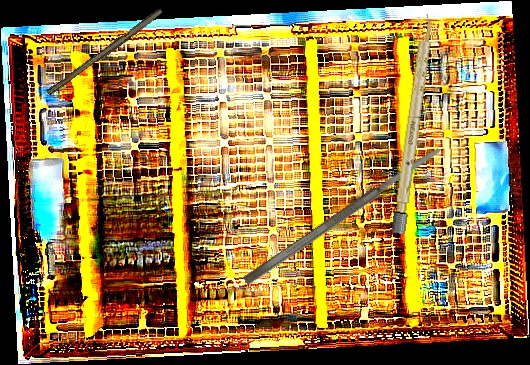Scalpel Handle: (45, 5, 166, 100), (391, 13, 436, 235)
Spatula Surgical: (241, 144, 444, 287)
